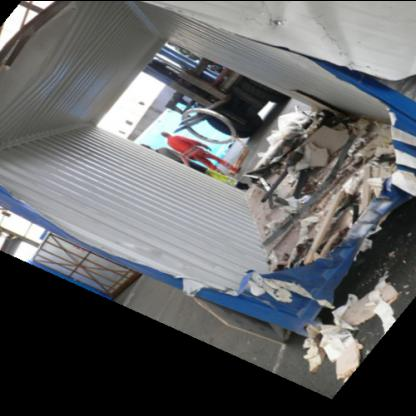Damage: (30, 1, 415, 338)
